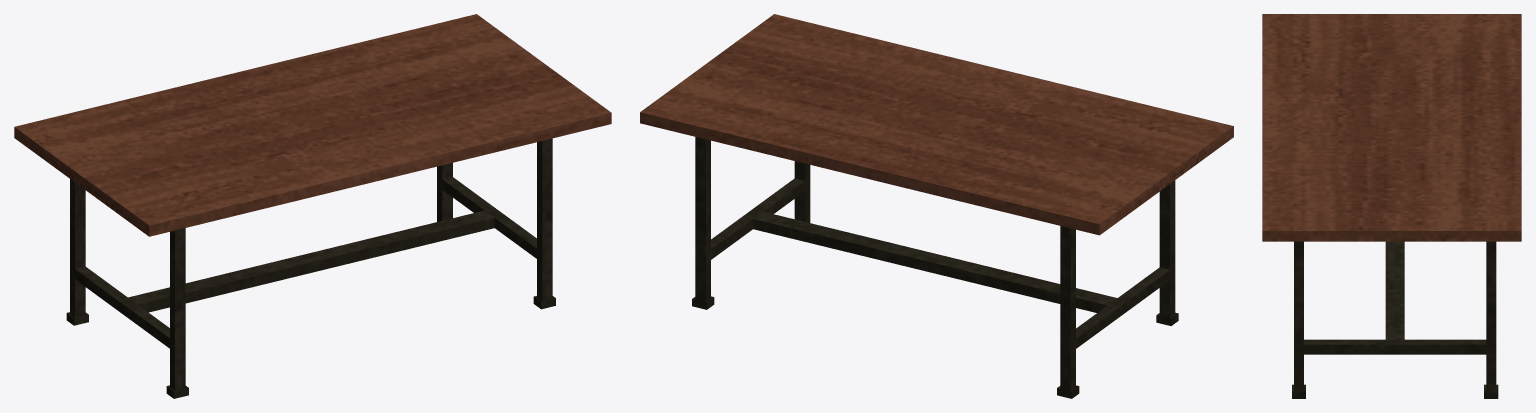
Rendered from OfficeTable.fbx.
3 views of the same model, side by side, from view 1: azimuth 30°, elevation 25°; view 2: azimuth 150°, elevation 25°; view 3: azimuth 270°, elevation 25° (orthographic). The views are drawn at different scales.
Visible parts, largest first — view 1: OfficeTable; view 2: OfficeTable; view 3: OfficeTable.
Boxes of the visible parts, x1=… form: OfficeTable: x1=14, y1=14, x2=611, y2=398; OfficeTable: x1=640, y1=14, x2=1233, y2=398; OfficeTable: x1=1262, y1=14, x2=1521, y2=398.
Bounding box in the file's own units: 2.25 × 0.9048 × 1.14.
